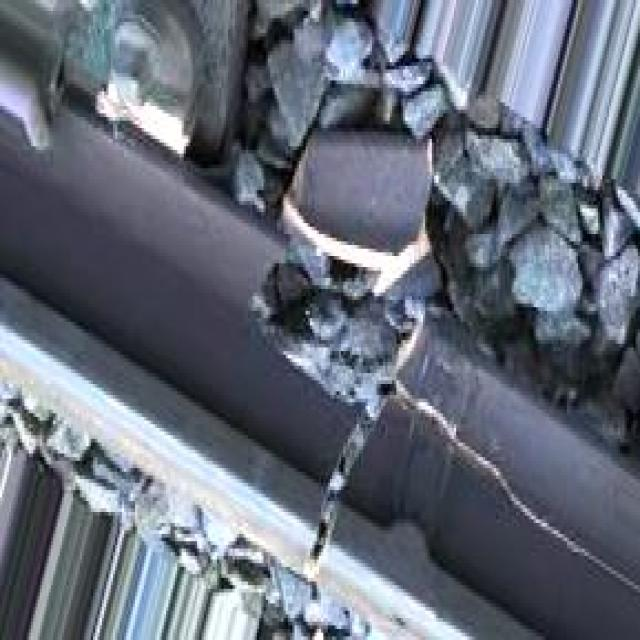crack: (257, 199, 456, 598)
